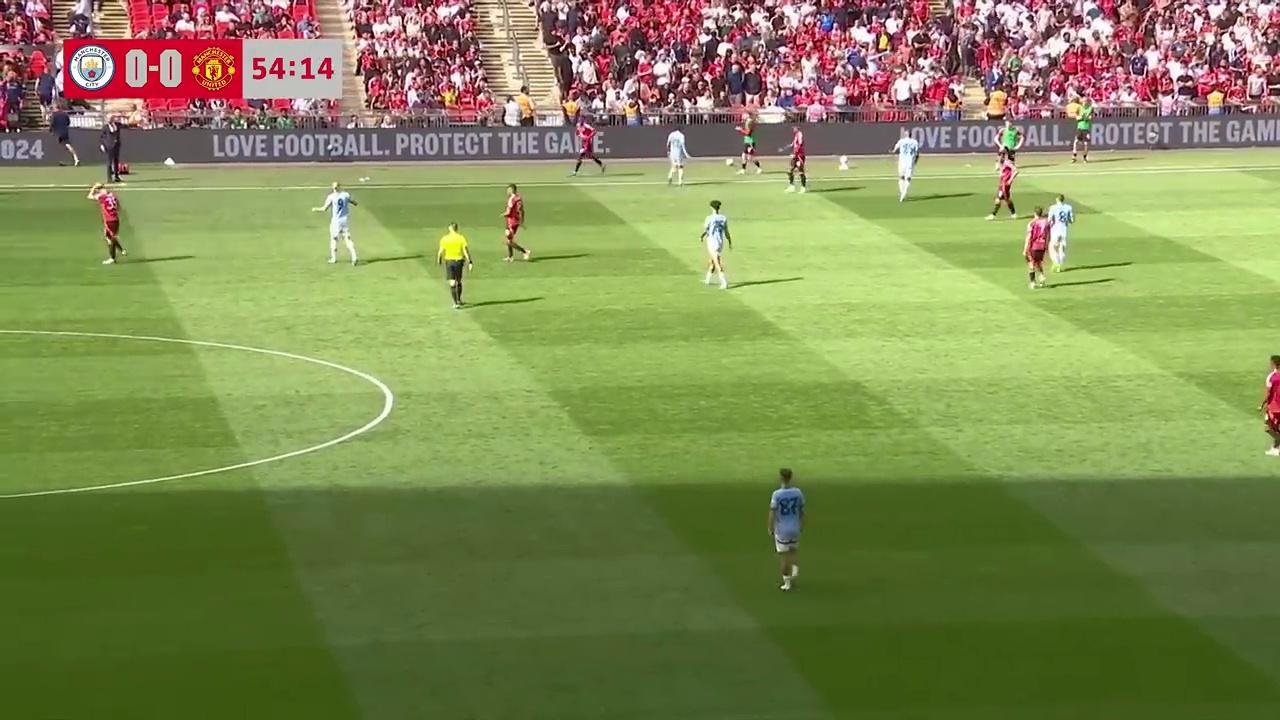player: (768, 468, 806, 591), (312, 181, 359, 267), (90, 183, 124, 264), (699, 200, 729, 289), (1258, 355, 1280, 455), (1023, 207, 1050, 288), (502, 186, 529, 263), (1047, 193, 1074, 266), (988, 153, 1017, 220), (573, 125, 605, 175), (894, 142, 917, 202), (666, 131, 688, 187), (785, 144, 807, 191)
referee: (437, 226, 471, 308)
